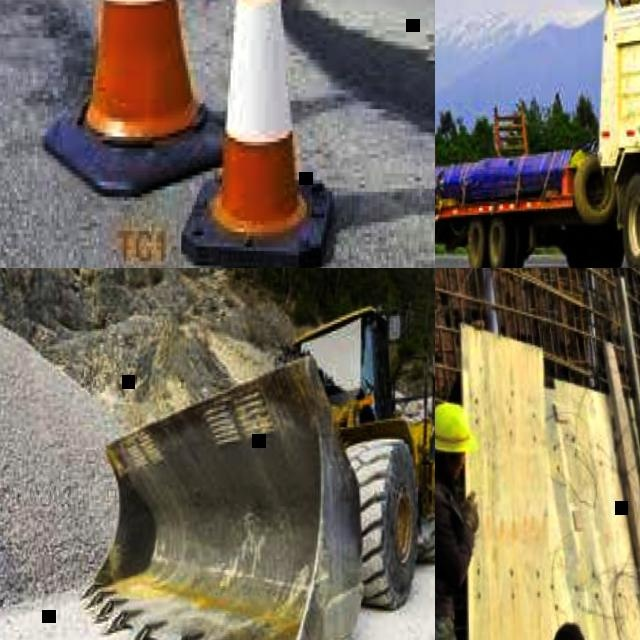Hardhat: (435, 398, 472, 454)
NO-Hardhat: (548, 619, 586, 640)
NO-Mask: (440, 456, 461, 478)
NO-Safety Vest: (435, 464, 460, 617)
Person: (435, 389, 496, 640)
Safety Cone: (179, 0, 336, 268), (42, 0, 235, 200)
machinery: (84, 299, 435, 640), (595, 0, 640, 268)
